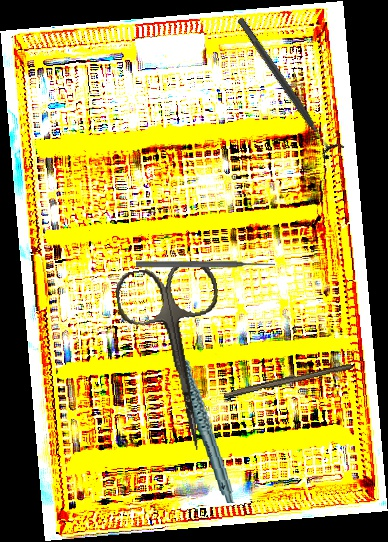Fixation Ring: (229, 11, 346, 162)
Handpiece: (171, 328, 236, 507)
Iris Scissors: (112, 257, 245, 460)
Pusher: (136, 260, 275, 269)
Scalpel Handle: (222, 359, 353, 401)
